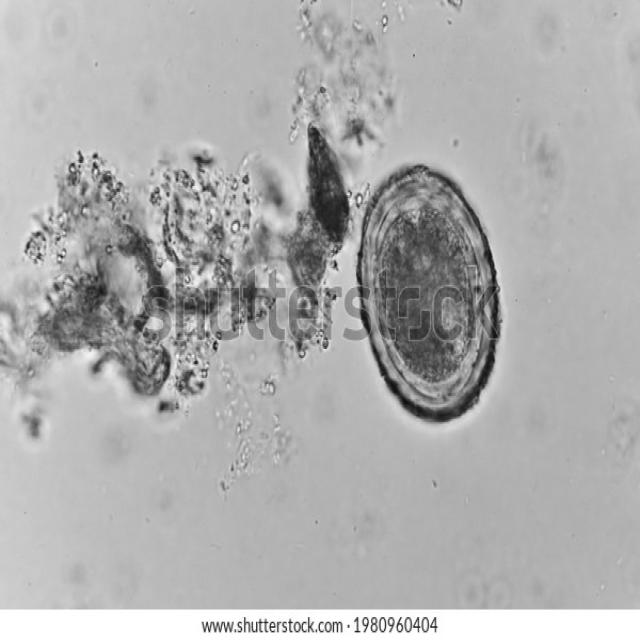Ascaris Lumbricoides: (352, 152, 509, 433)
